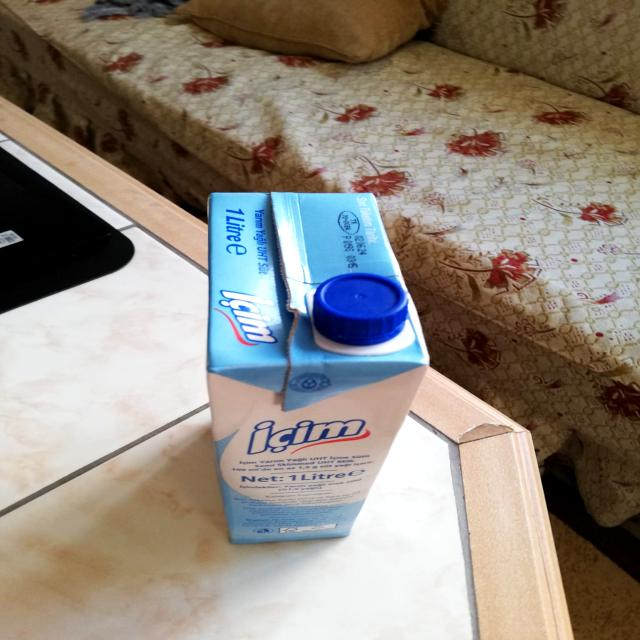milk: (200, 185, 424, 547)
